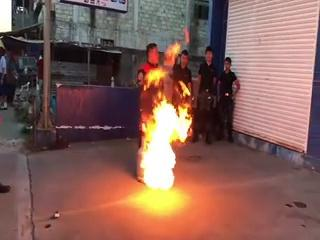Fire: (134, 69, 196, 191)
